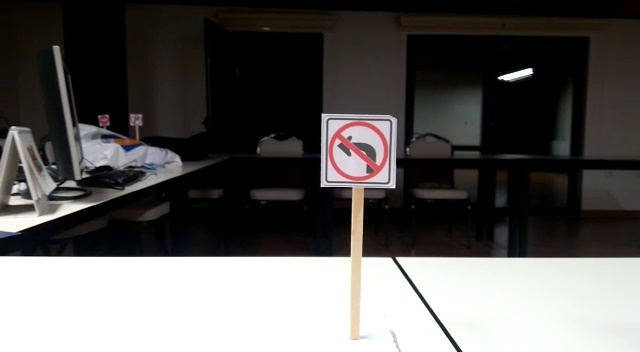sola_donulmez: (322, 115, 394, 182)
